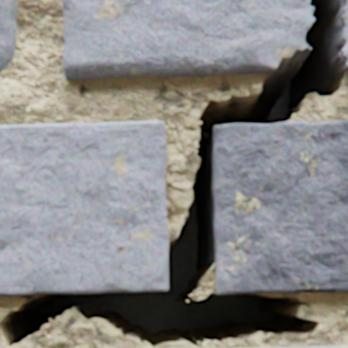brick: (0, 121, 168, 295), (213, 121, 347, 294), (0, 0, 17, 73), (272, 346, 347, 347)
broken_brick: (63, 0, 313, 80), (338, 0, 347, 71)
crack: (0, 0, 346, 347)
